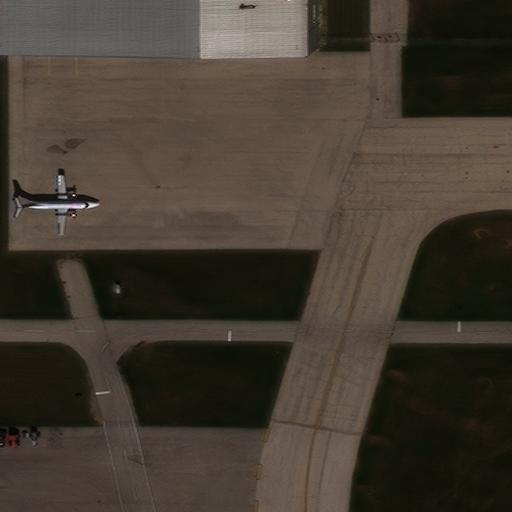Medium Civil Transport: (16, 174, 99, 234)
